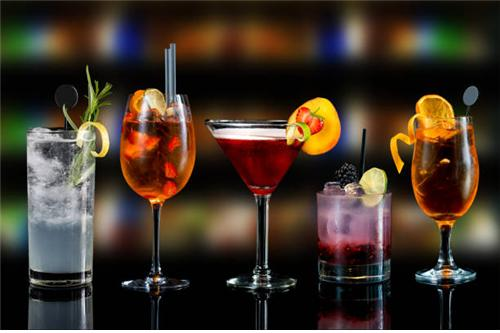alcohol: (205, 123, 305, 293), (120, 92, 193, 290), (411, 118, 481, 290), (28, 129, 94, 288), (318, 187, 391, 285)
